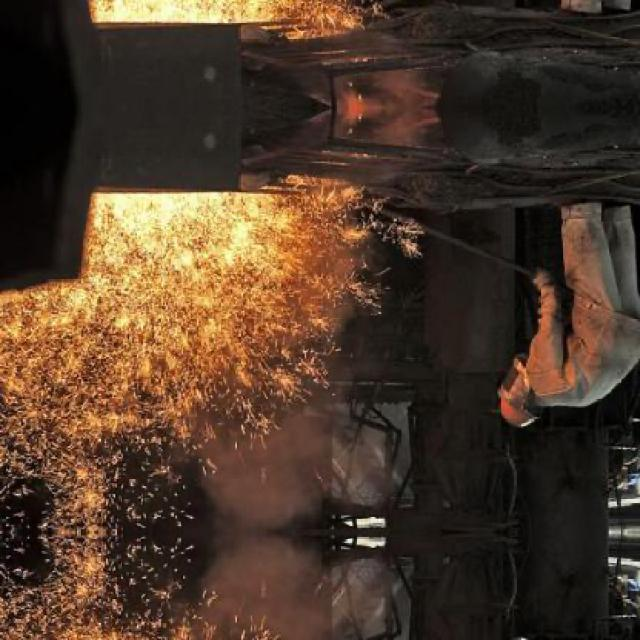con casco: (429, 348, 560, 464)
